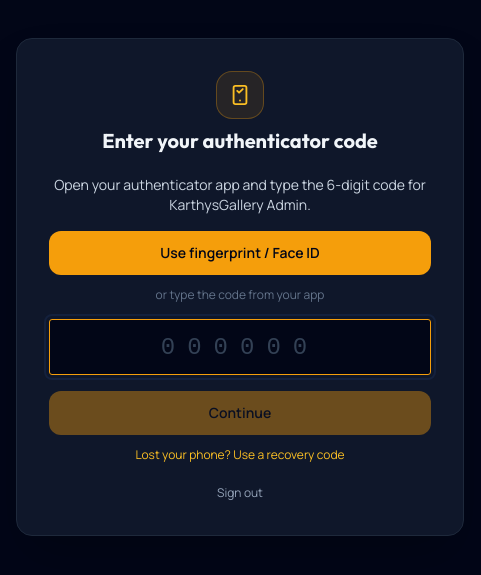
Test: AdminMfaGate — fingerprint / Face ID › keeps the code box beside it, and says why when the device answer was cancelled
This screenshot has width=481, height=575.
Expected: the field named "Authenticator code" is shown, [49,319,431,375]
What coordinates should you click on to do the following:
click the button "Use fingerprint / Face ID"
I would click on:
 (240, 253)
Its box is [49,231,431,275].
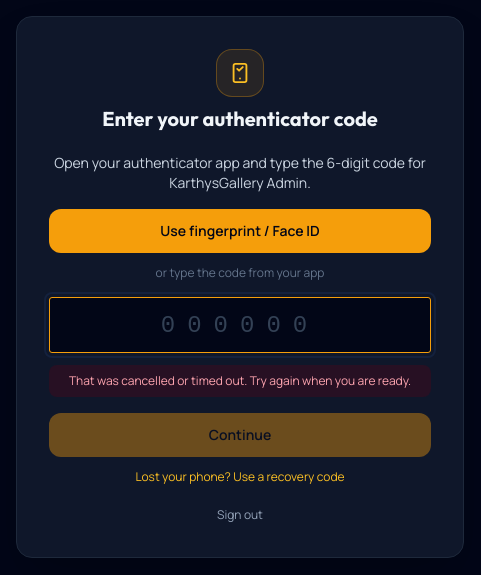
Expected: the text "cancelled or timed out" is shown, [69,372,411,389]
